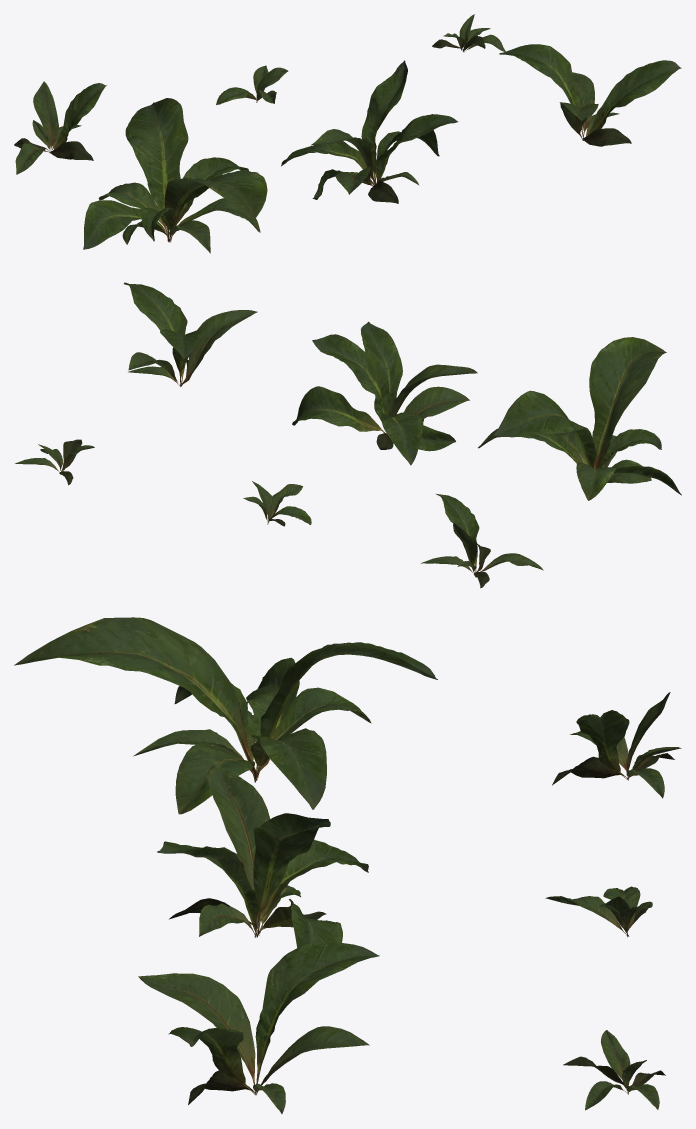
The model's file is anthurium_botany_01.glb.
3 renders of one model, top to bottom at view 1: azimuth 30°, elevation 25°; view 2: azimuth 150°, elevation 25°; view 3: azimuth 270°, elevation 25°, orthographic. The views are drawn at different scales.
Parts seen in each view (by area): view 1: anthurium_botany_01_a, anthurium_botany_01_b, anthurium_botany_01_c, anthurium_botany_04_d, anthurium_botany_05_e, anthurium_botany_06_f; view 2: anthurium_botany_01_a, anthurium_botany_01_b, anthurium_botany_01_c, anthurium_botany_04_d, anthurium_botany_05_e, anthurium_botany_06_f; view 3: anthurium_botany_01_a, anthurium_botany_01_b, anthurium_botany_01_c, anthurium_botany_04_d, anthurium_botany_06_f, anthurium_botany_05_e.
Part boxes in pixels (x1=…): anthurium_botany_01_a: x1=83, y1=98, x2=267, y2=253; anthurium_botany_01_b: x1=281, y1=60, x2=458, y2=203; anthurium_botany_01_c: x1=499, y1=44, x2=681, y2=146; anthurium_botany_04_d: x1=14, y1=81, x2=106, y2=174; anthurium_botany_05_e: x1=216, y1=65, x2=288, y2=104; anthurium_botany_06_f: x1=432, y1=14, x2=505, y2=52; anthurium_botany_01_a: x1=478, y1=337, x2=681, y2=500; anthurium_botany_01_b: x1=292, y1=321, x2=477, y2=465; anthurium_botany_01_c: x1=124, y1=282, x2=257, y2=386; anthurium_botany_04_d: x1=421, y1=494, x2=543, y2=588; anthurium_botany_05_e: x1=243, y1=481, x2=311, y2=526; anthurium_botany_06_f: x1=15, y1=439, x2=94, y2=485; anthurium_botany_01_a: x1=14, y1=617, x2=437, y2=814; anthurium_botany_01_b: x1=157, y1=763, x2=368, y2=947; anthurium_botany_01_c: x1=138, y1=942, x2=379, y2=1113; anthurium_botany_04_d: x1=552, y1=692, x2=681, y2=798; anthurium_botany_06_f: x1=563, y1=1030, x2=665, y2=1110; anthurium_botany_05_e: x1=545, y1=886, x2=652, y2=937.
Bounding box in the file's own units: 2.8 × 0.4996 × 1.8.
1 material, 1 textured.
